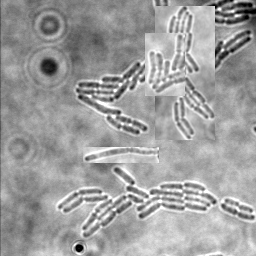Dividing: (83, 147, 159, 163), (219, 204, 255, 222), (223, 199, 253, 215)
Microcolony: (57, 167, 216, 238), (155, 6, 215, 140), (75, 59, 154, 136), (145, 33, 185, 96), (215, 30, 251, 72), (200, 1, 255, 26)
